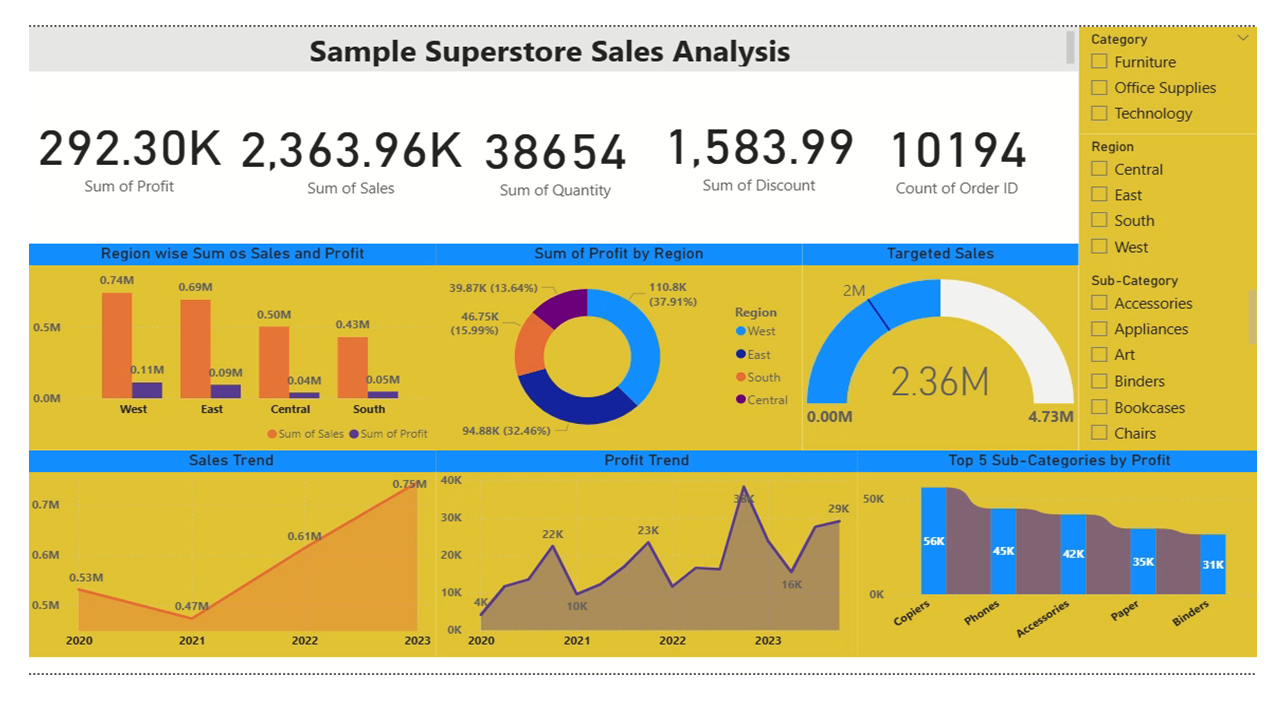

Layout of this report page (visuals, bound fields, positions):
{"tool":"powerbi","page":{"name":"Sales Report","canvas":[1280,720],"ordinal":0},"visuals":[{"type":"card","fields":{"Values":["Sum(Orders.Profit)"]},"box":[0,75.5,212.7,126.2],"z":0},{"type":"card","fields":{"Values":["Sum(Orders.Sales)"]},"box":[212.7,78.2,247,126.2],"z":1000},{"type":"card","fields":{"Values":["Sum(Orders.Quantity)"]},"box":[456.9,81,182.5,123.5],"z":2000},{"type":"card","fields":{"Values":["Sum(Orders.Discount)"]},"box":[639.5,75.5,240.1,124.9],"z":3000},{"type":"card","fields":{"Values":["CountNonNull(Orders.Order ID)"]},"box":[879.6,78.2,170.2,124.9],"z":4000},{"type":"clusteredColumnChart","title":"Region wise Sum os Sales and Profit","fields":{"Category":["Orders.Region"],"Y":["Sum(Orders.Sales)","Sum(Orders.Profit)"]},"box":[1.4,241.5,424,230.5],"z":5000},{"type":"areaChart","title":"Sales Trend","fields":{"Y":["Sum(Orders.Sales)"],"Category":["Orders.Order Date.Variation.Date Hierarchy.Year","Orders.Order Date.Variation.Date Hierarchy.Quarter","Orders.Order Date.Variation.Date Hierarchy.Month","Orders.Order Date.Variation.Date Hierarchy.Day"]},"box":[0,472,424,230.5],"z":6000},{"type":"donutChart","fields":{"Category":["Orders.Region"],"Y":["Sum(Orders.Profit)"]},"box":[424,241.5,380.1,233.3],"z":7000},{"type":"areaChart","title":"Profit Trend","fields":{"Y":["Sum(Orders.Profit)"],"Category":["Orders.Order Date.Variation.Date Hierarchy.Year","Orders.Order Date.Variation.Date Hierarchy.Quarter","Orders.Order Date.Variation.Date Hierarchy.Month","Orders.Order Date.Variation.Date Hierarchy.Day"]},"box":[424,472,437.7,230.5],"z":8000},{"type":"gauge","title":" Targeted Sales","fields":{"Y":["Sum(Orders.Sales)"],"TargetValue":["Orders.Target 1"]},"box":[804.1,241.5,286.8,230.5],"z":9000},{"type":"ribbonChart","title":"Top 5 Sub-Categories by Profit","fields":{"Y":["Sum(Orders.Profit)"],"Category":["Orders.Sub-Category"]},"box":[861.8,472,418.5,230.5],"z":10000},{"type":"slicer","fields":{"Values":["Orders.Sub-Category"]},"box":[1090.9,269,189.4,203.1],"z":11000},{"type":"slicer","fields":{"Values":["Orders.Region"]},"box":[1090.9,119.4,189.4,149.6],"z":12000},{"type":"slicer","fields":{"Values":["Orders.Category"]},"box":[1090.9,0,189.4,119.4],"z":13000},{"type":"textbox","box":[1.4,0,1089.5,49.4],"z":14000}]}

Visuals, with their boxes in screenshot pixels (x1, y1, x2, y2), scaled from the page's 1280x720 canvas onto the 1280x720 screenshot:
card - Sum(Orders.Profit): box=[0, 76, 213, 202]
card - Sum(Orders.Sales): box=[213, 78, 460, 204]
card - Sum(Orders.Quantity): box=[457, 81, 639, 204]
card - Sum(Orders.Discount): box=[640, 76, 880, 200]
card - CountNonNull(Orders.Order ID): box=[880, 78, 1050, 203]
"Region wise Sum os Sales and Profit" clusteredColumnChart: box=[1, 242, 425, 472]
"Sales Trend" areaChart: box=[0, 472, 424, 702]
donutChart - Orders.Region x Sum(Orders.Profit): box=[424, 242, 804, 475]
"Profit Trend" areaChart: box=[424, 472, 862, 702]
" Targeted Sales" gauge: box=[804, 242, 1091, 472]
"Top 5 Sub-Categories by Profit" ribbonChart: box=[862, 472, 1279, 702]
slicer - Orders.Sub-Category: box=[1091, 269, 1279, 472]
slicer - Orders.Region: box=[1091, 119, 1279, 269]
slicer - Orders.Category: box=[1091, 0, 1279, 119]
textbox: box=[1, 0, 1091, 49]
